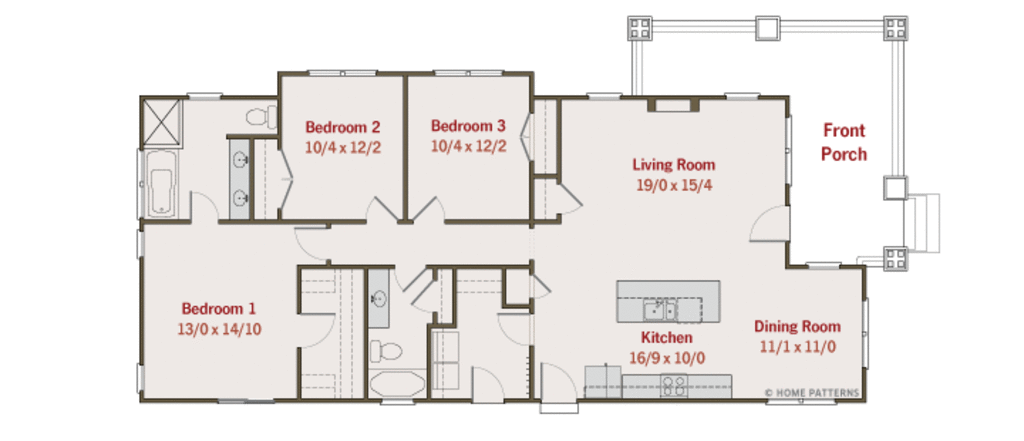door: (531, 362, 580, 413), (290, 221, 341, 269), (463, 364, 520, 406), (743, 203, 797, 246), (295, 306, 342, 351), (492, 305, 537, 352), (546, 180, 588, 220), (406, 275, 441, 320), (411, 191, 450, 229), (359, 194, 401, 229), (181, 188, 220, 224), (389, 266, 430, 298), (526, 273, 551, 300)
kitchen_bar: (619, 362, 740, 404)
large_sink: (238, 98, 297, 140), (366, 334, 407, 364)
small_sink: (225, 139, 260, 219), (358, 269, 390, 329)
tub: (140, 148, 189, 221), (362, 364, 436, 404)
twin_sink: (631, 286, 699, 325)
window: (432, 64, 512, 82), (720, 85, 770, 104), (584, 88, 625, 103), (306, 70, 378, 78), (187, 88, 231, 98)
